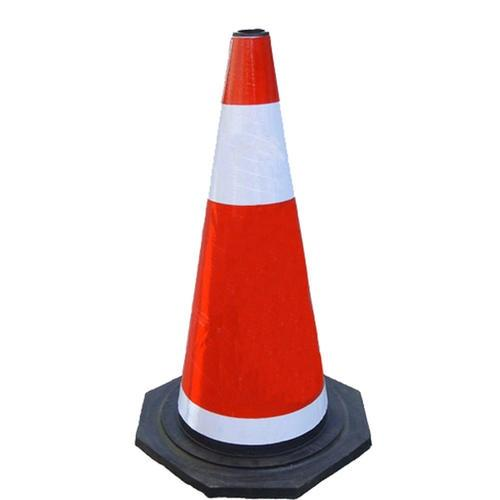cone_barrel: (155, 31, 348, 454)
